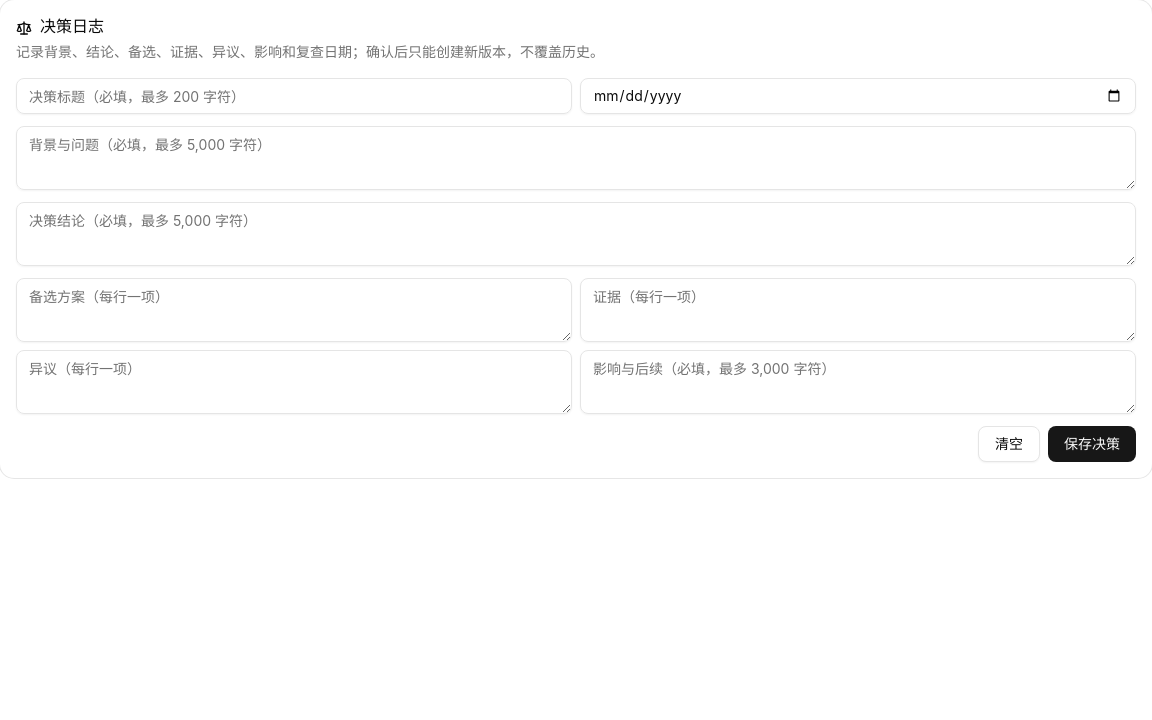
Test case: ProjectDecisionPanel › keeps the returned proposed status and never auto-confirms the decision
This screenshot has width=1152, height=720.
Type "采用本地优先" into the field named "决策标题（必填）".
click(294, 96); type("采用本地优先")  # box [16,78,572,114]
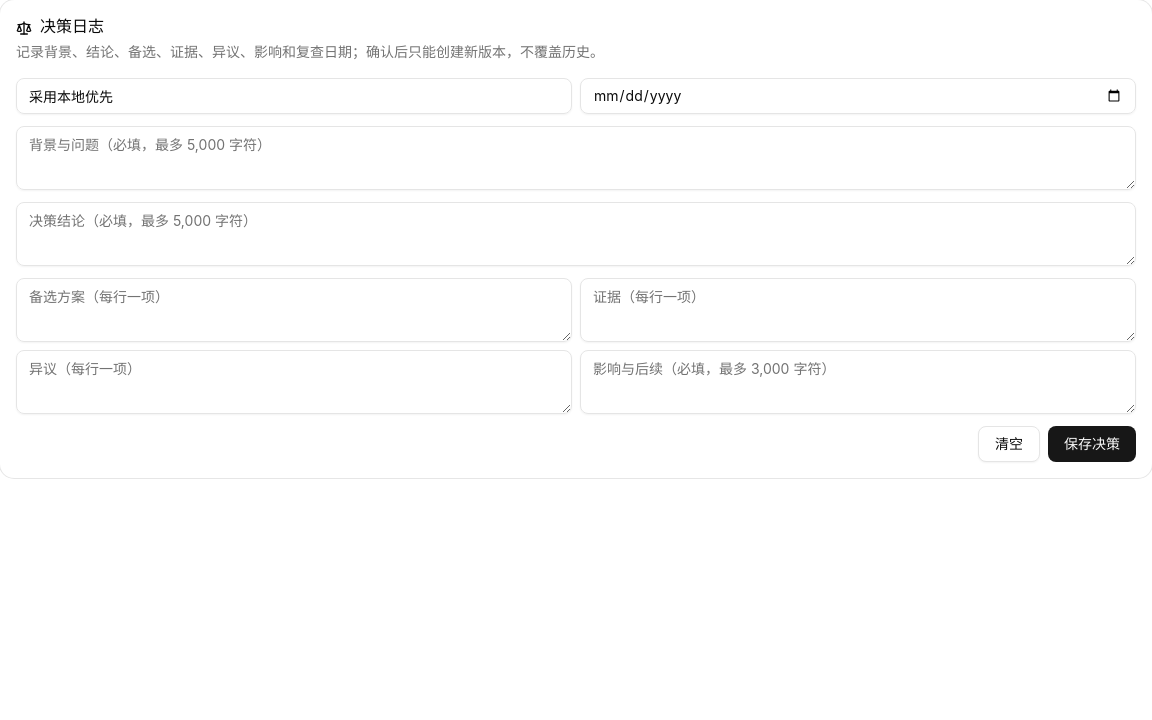
Type "2026-08-01" into the date field named "复查日期".
click(858, 96); type("2026-08-01")  # box [580,78,1136,114]
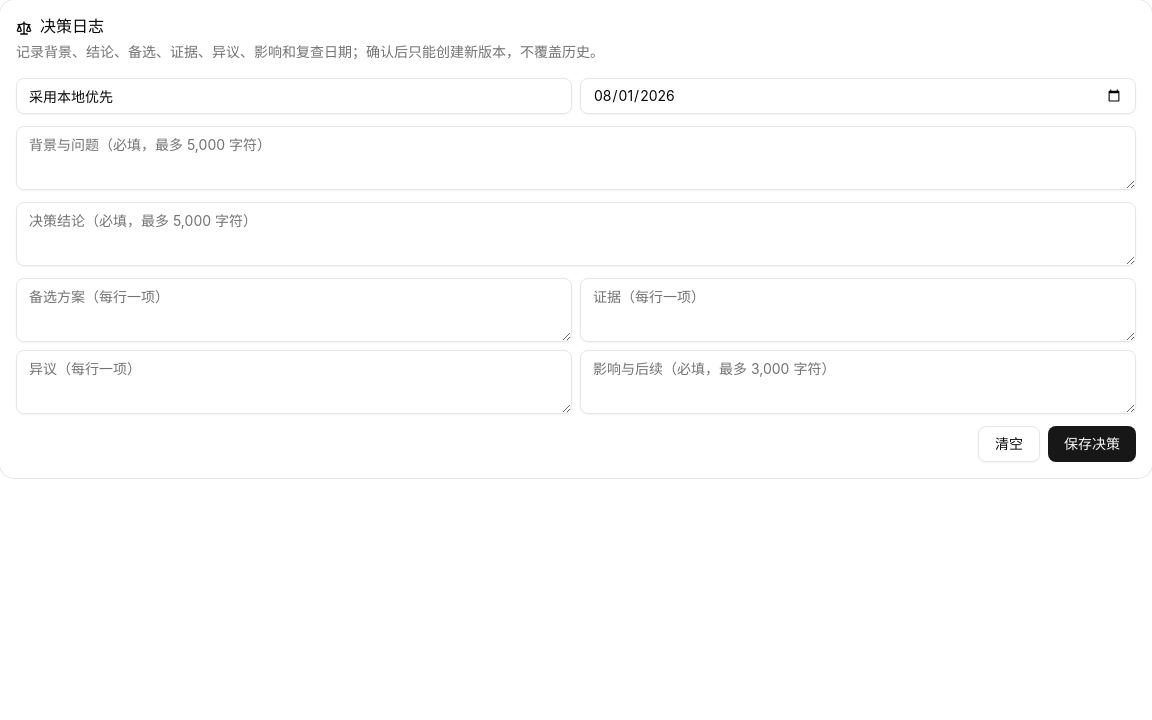
Type "隐私要求" into the text box named "背景与问题（必填）".
click(576, 158); type("隐私要求")  # box [16,126,1136,190]
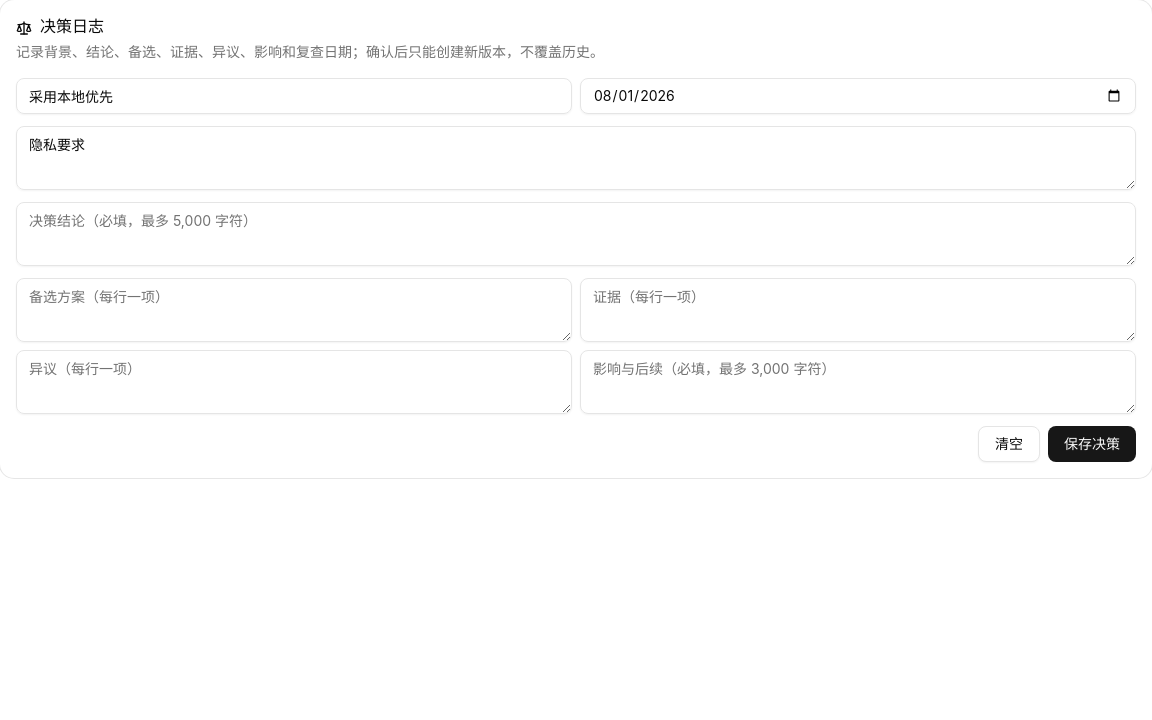
Type "本地保存" into the text box named "决策结论（必填）".
click(576, 234); type("本地保存")  # box [16,202,1136,266]
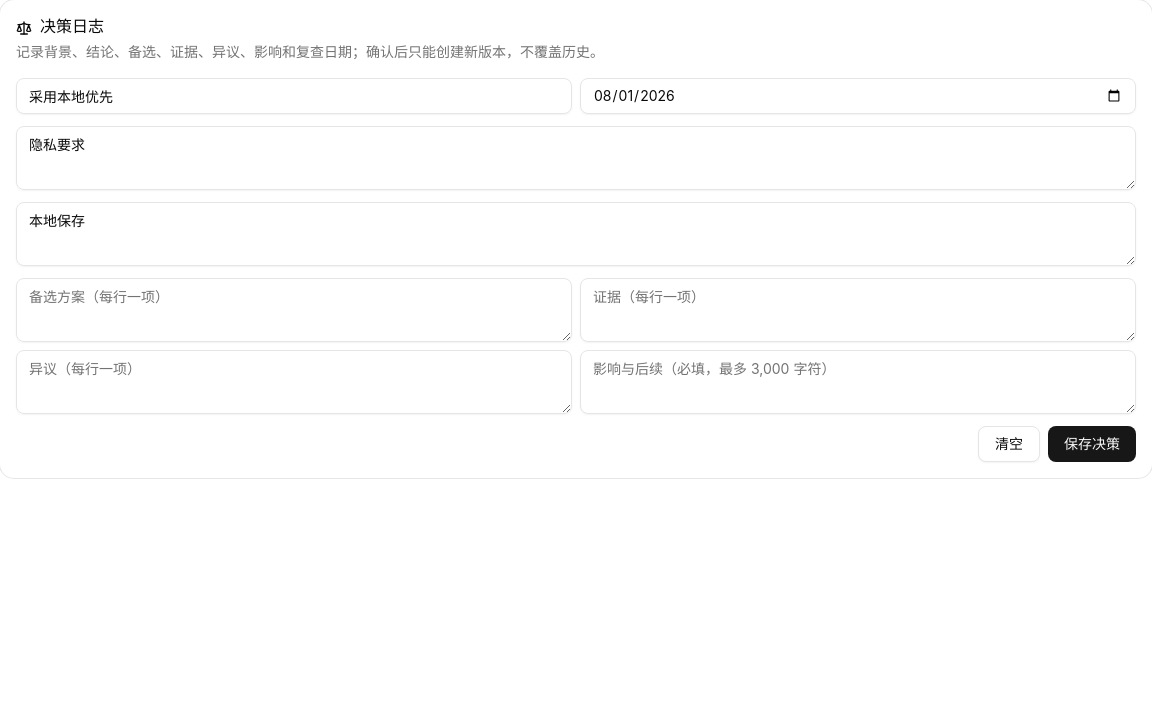
Type "降低泄漏风险" into the text box named "影响与后续（必填）".
click(858, 382); type("降低泄漏风险")  # box [580,350,1136,414]
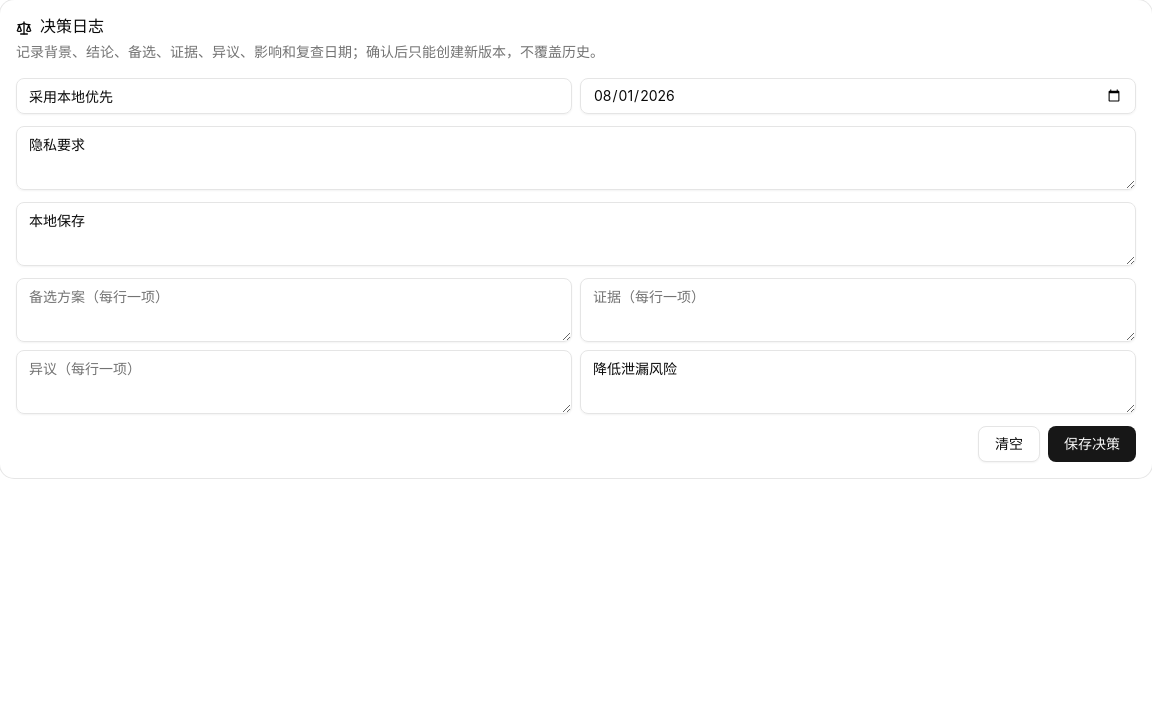
Click the button "保存决策".
click(1092, 444)  # box [1048,426,1136,462]
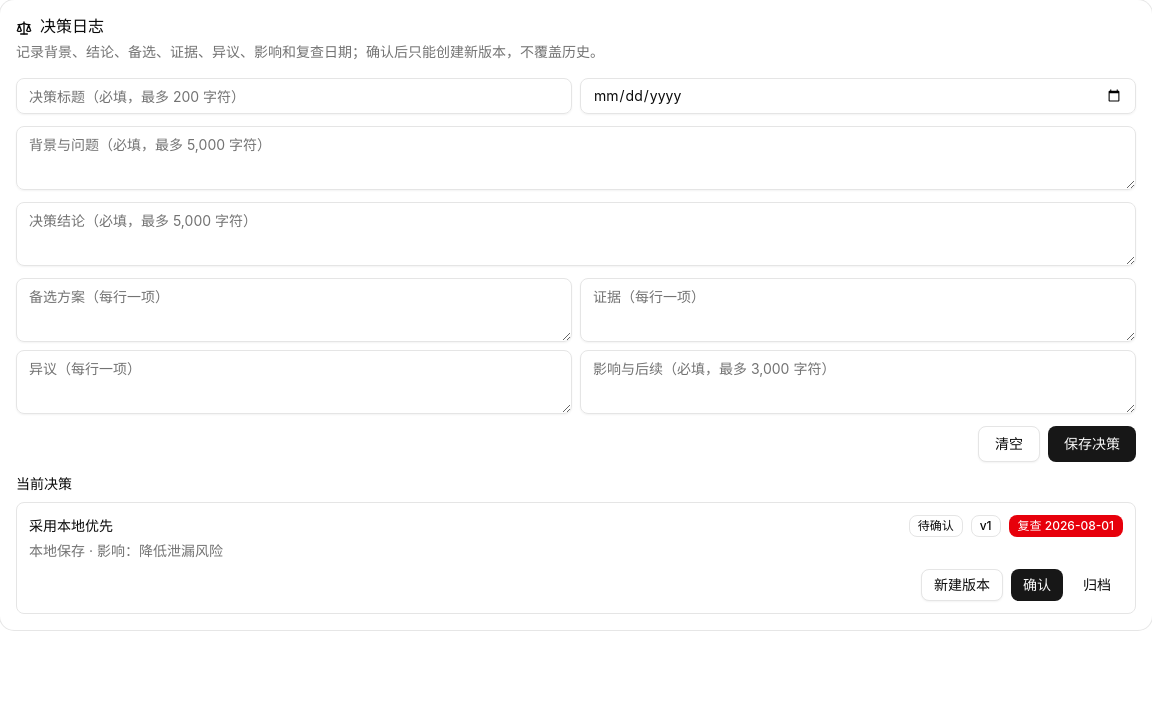
Expected: the text "待确认" is shown, [909,515,963,537]
